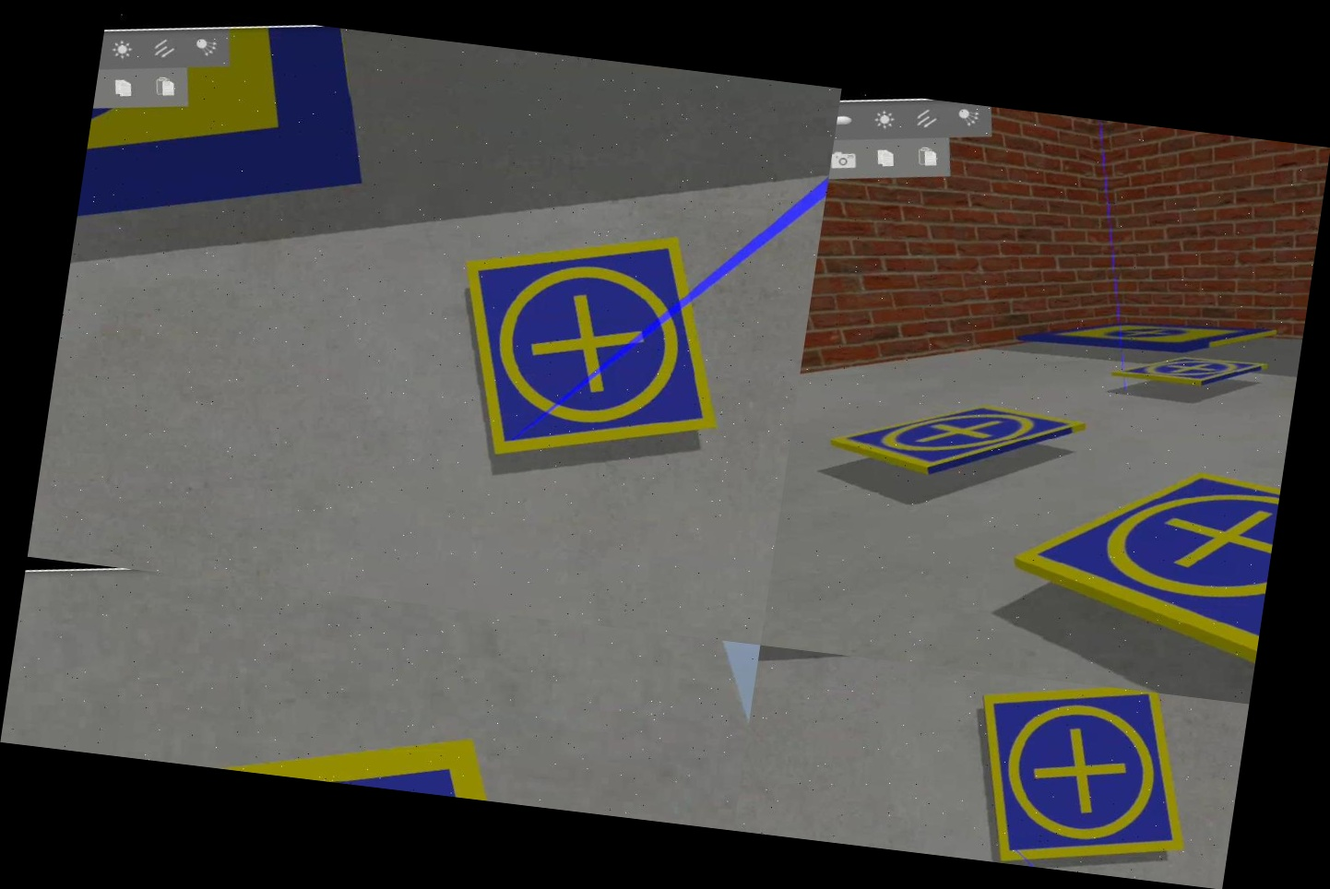large_base: (69, 0, 395, 305), (1009, 283, 1287, 392)
small_base: (0, 666, 682, 823), (436, 207, 751, 484), (986, 421, 1285, 704), (956, 672, 1206, 883), (825, 373, 1098, 507), (1103, 331, 1277, 413)
